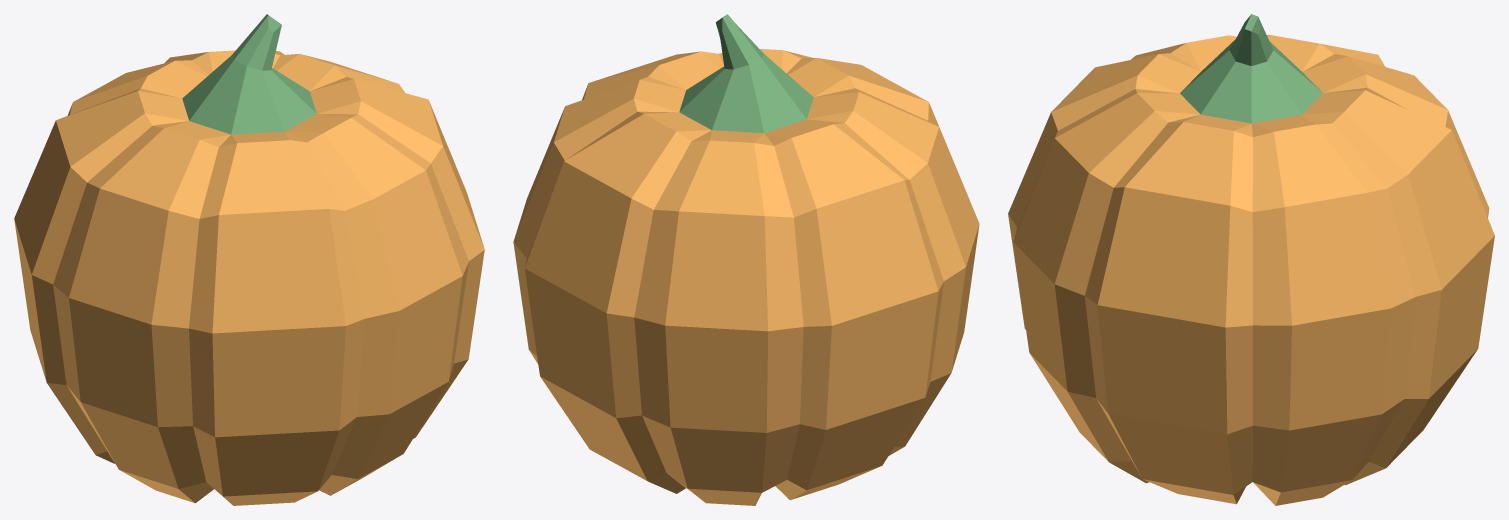
The model's file is pumkin.glb.
3 views of the same model, side by side, from view 1: azimuth 30°, elevation 25°; view 2: azimuth 150°, elevation 25°; view 3: azimuth 270°, elevation 25° (orthographic). The views are drawn at different scales.
Visible parts, largest first — view 1: pumkin; view 2: pumkin; view 3: pumkin.
Part boxes in pixels (x1=…): pumkin: x1=14, y1=14, x2=484, y2=505; pumkin: x1=513, y1=14, x2=979, y2=505; pumkin: x1=1008, y1=14, x2=1494, y2=505.
Bounding box in the file's own units: 64.52 × 65.75 × 64.52.
